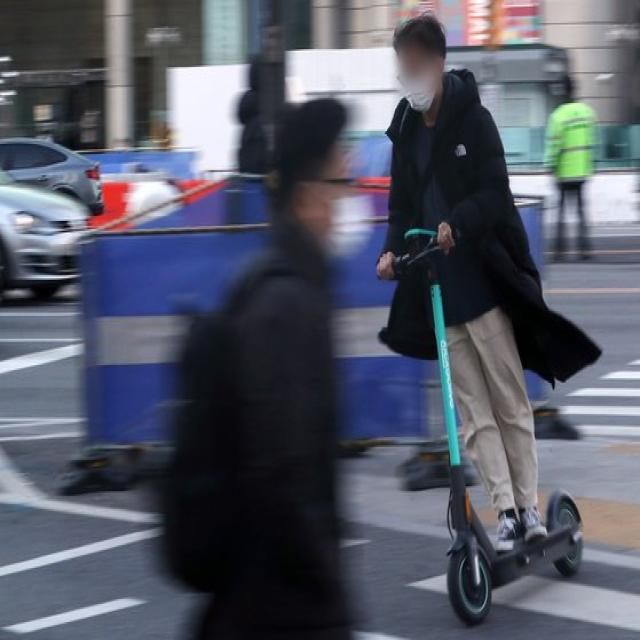non-helmet: (359, 11, 590, 640)
